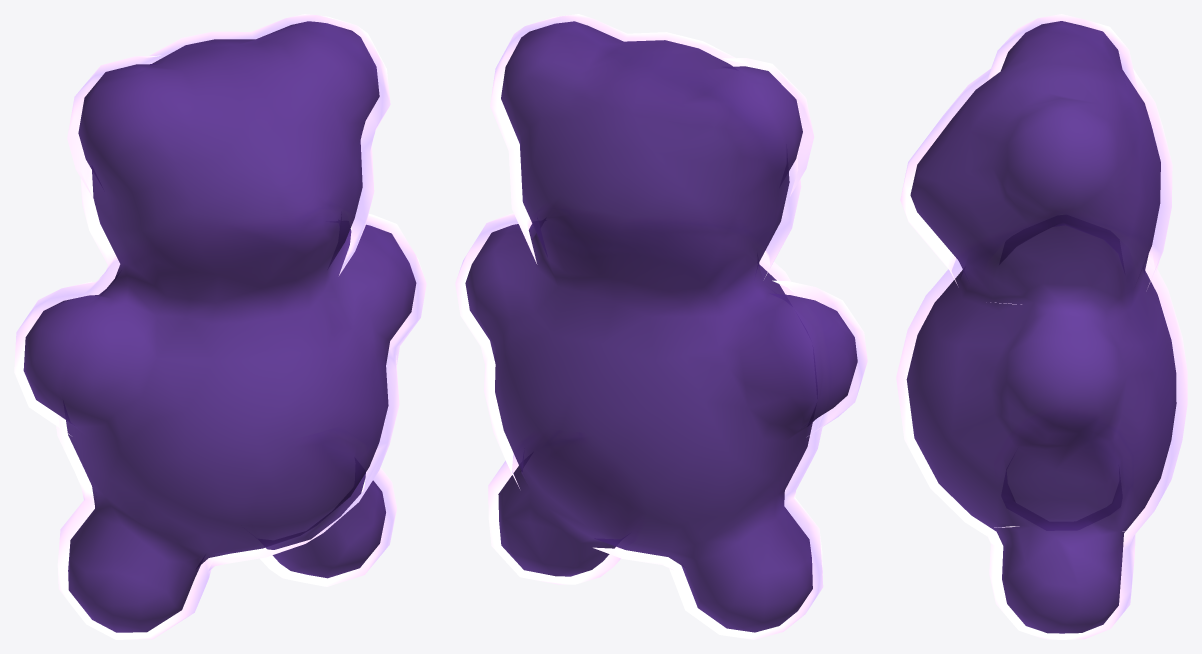
File: BLUEBERRY.glb
3 renders of one model, left to right at view 1: azimuth 30°, elevation 25°; view 2: azimuth 150°, elevation 25°; view 3: azimuth 270°, elevation 25°, orthographic. The views are drawn at different scales.
Parts seen in each view (by area): view 1: Sphere.012; view 2: Sphere.012; view 3: Sphere.012.
Part boxes in pixels (box(x1,y1,x2,y2)): Sphere.012: box(14, 14, 426, 639); Sphere.012: box(455, 14, 867, 639); Sphere.012: box(896, 14, 1187, 639).
Size of the model in its own units: 2.41 by 3.37 by 1.64.
